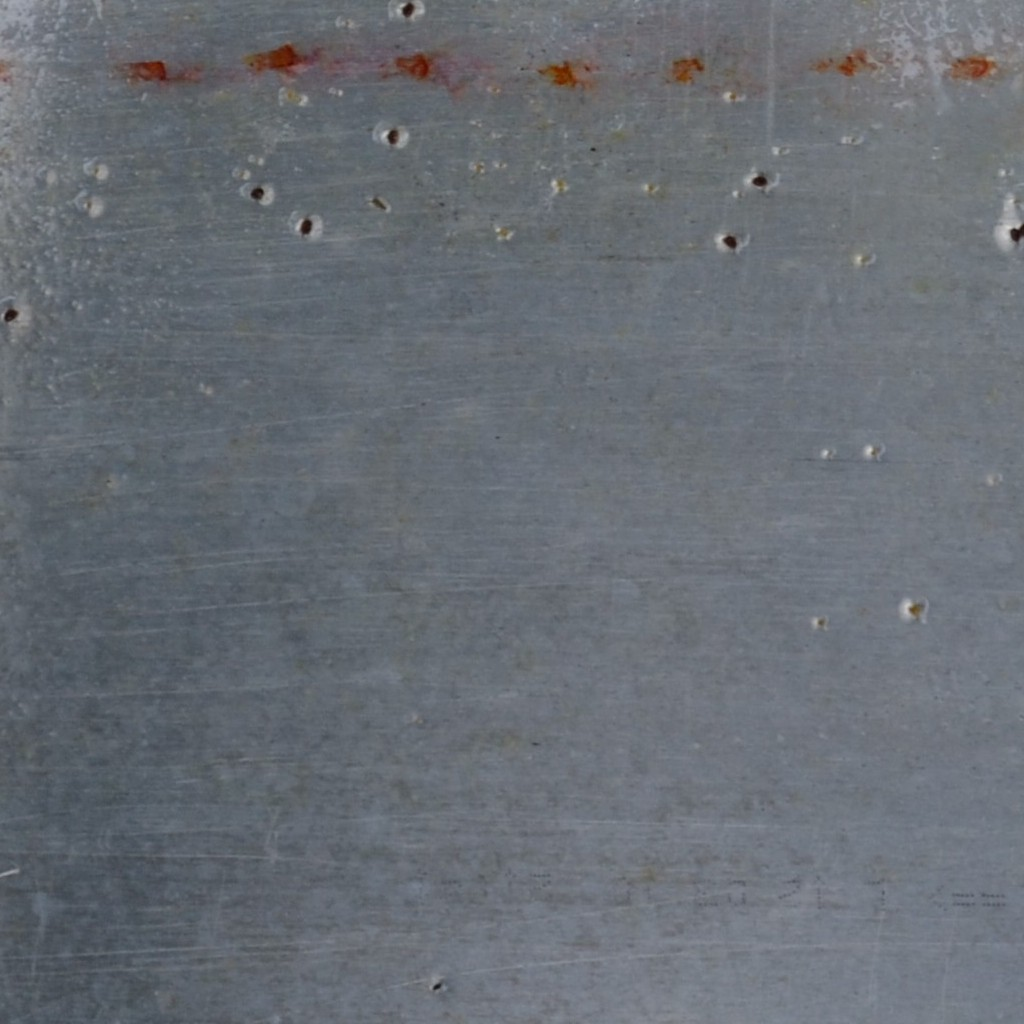varroa: (2, 303, 20, 329), (385, 126, 404, 150), (748, 170, 771, 189), (295, 216, 315, 237), (719, 233, 740, 252), (397, 0, 417, 19), (249, 184, 267, 203), (1007, 224, 1022, 244)
